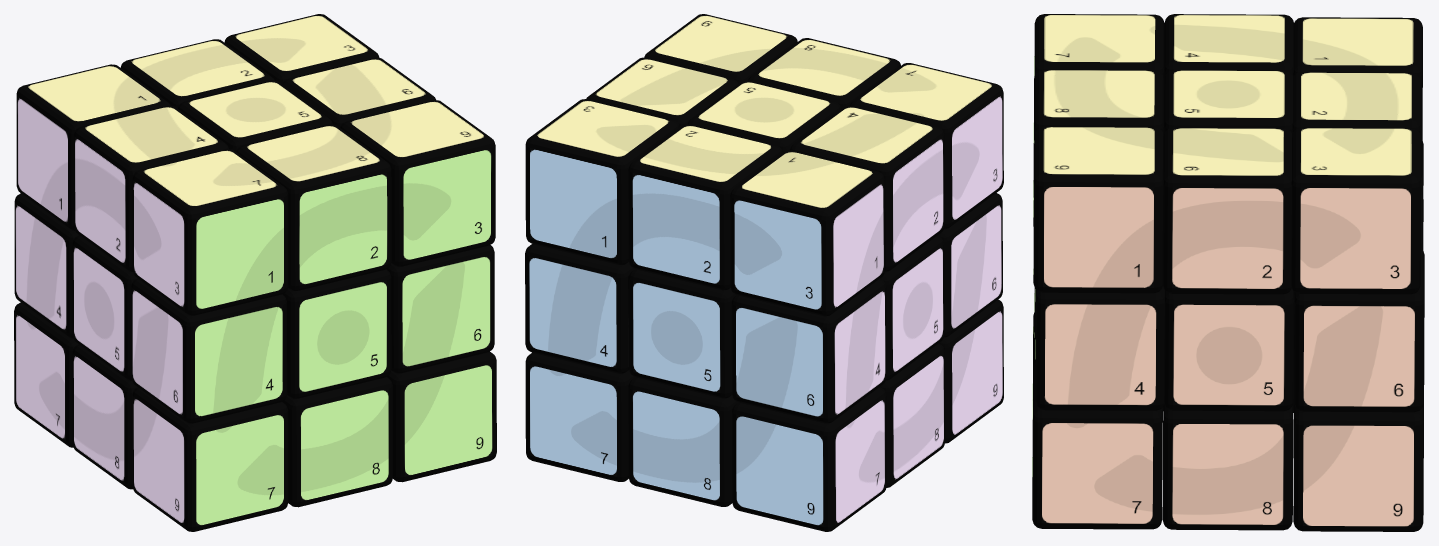
Rendered from Rubix_cube_PASTEL_6.glb.
3 renders of one model, left to right at view 1: azimuth 30°, elevation 25°; view 2: azimuth 150°, elevation 25°; view 3: azimuth 270°, elevation 25°, orthographic. The views are drawn at different scales.
Parts seen in each view (by area): view 1: s3_block_6, s3_block_9, s3_block_3, s3_block_2, s3_block_8, s3_block_5, s3_block_7, s3_block_1, s3_block_4, top_block_7.001, s4_block_1, s4_block_4 (+34 smaller); view 2: s1_block_4, s1_block_3, s1_block_9, s1_block_8, s1_block_5, s1_block_2, s1_block_6, s1_block_7, s1_block_1, top_block_1.001, s4_block_5, s4_block_4 (+34 smaller); view 3: s2_block_5, s2_block_8, s2_block_3, s2_block_9, s2_block_2, s2_block_6, s2_block_4, s2_block_1, s2_block_7, top_block_9, top_block_3.001, top_block_6.001 (+21 smaller).
Boxes of the visible parts, bbox=[...] form: s3_block_6: bbox=[402, 255, 490, 367]; s3_block_9: bbox=[404, 364, 492, 476]; s3_block_3: bbox=[403, 148, 491, 261]; s3_block_2: bbox=[299, 172, 387, 285]; s3_block_8: bbox=[300, 388, 388, 501]; s3_block_5: bbox=[299, 280, 387, 393]; s3_block_7: bbox=[196, 413, 283, 526]; s3_block_1: bbox=[196, 197, 283, 310]; s3_block_4: bbox=[195, 305, 282, 417]; top_block_7.001: bbox=[132, 149, 288, 315]; s4_block_1: bbox=[17, 96, 68, 223]; s4_block_4: bbox=[15, 204, 66, 331]; s1_block_4: bbox=[529, 256, 616, 368]; s1_block_3: bbox=[734, 199, 821, 310]; s1_block_9: bbox=[736, 415, 823, 526]; s1_block_8: bbox=[632, 390, 719, 501]; s1_block_5: bbox=[633, 281, 720, 392]; s1_block_2: bbox=[632, 173, 719, 284]; s1_block_6: bbox=[736, 306, 823, 417]; s1_block_7: bbox=[530, 365, 616, 476]; s1_block_1: bbox=[530, 148, 616, 259]; top_block_1.001: bbox=[730, 150, 884, 316]; s4_block_5: bbox=[892, 246, 943, 373]; s4_block_4: bbox=[834, 289, 885, 416]; s2_block_5: bbox=[1173, 304, 1284, 405]; s2_block_8: bbox=[1172, 424, 1283, 524]; s2_block_3: bbox=[1300, 188, 1411, 288]; s2_block_9: bbox=[1303, 425, 1414, 526]; s2_block_2: bbox=[1172, 188, 1283, 288]; s2_block_6: bbox=[1303, 305, 1414, 406]; s2_block_4: bbox=[1044, 304, 1156, 405]; s2_block_1: bbox=[1043, 186, 1154, 287]; s2_block_7: bbox=[1041, 423, 1153, 523]; top_block_9: bbox=[1033, 126, 1163, 293]; top_block_3.001: bbox=[1291, 127, 1421, 294]; top_block_6.001: bbox=[1163, 127, 1292, 294].
Size of the model in its own units: 6.08 by 6.09 by 6.04.
7 materials, 6 textured.
